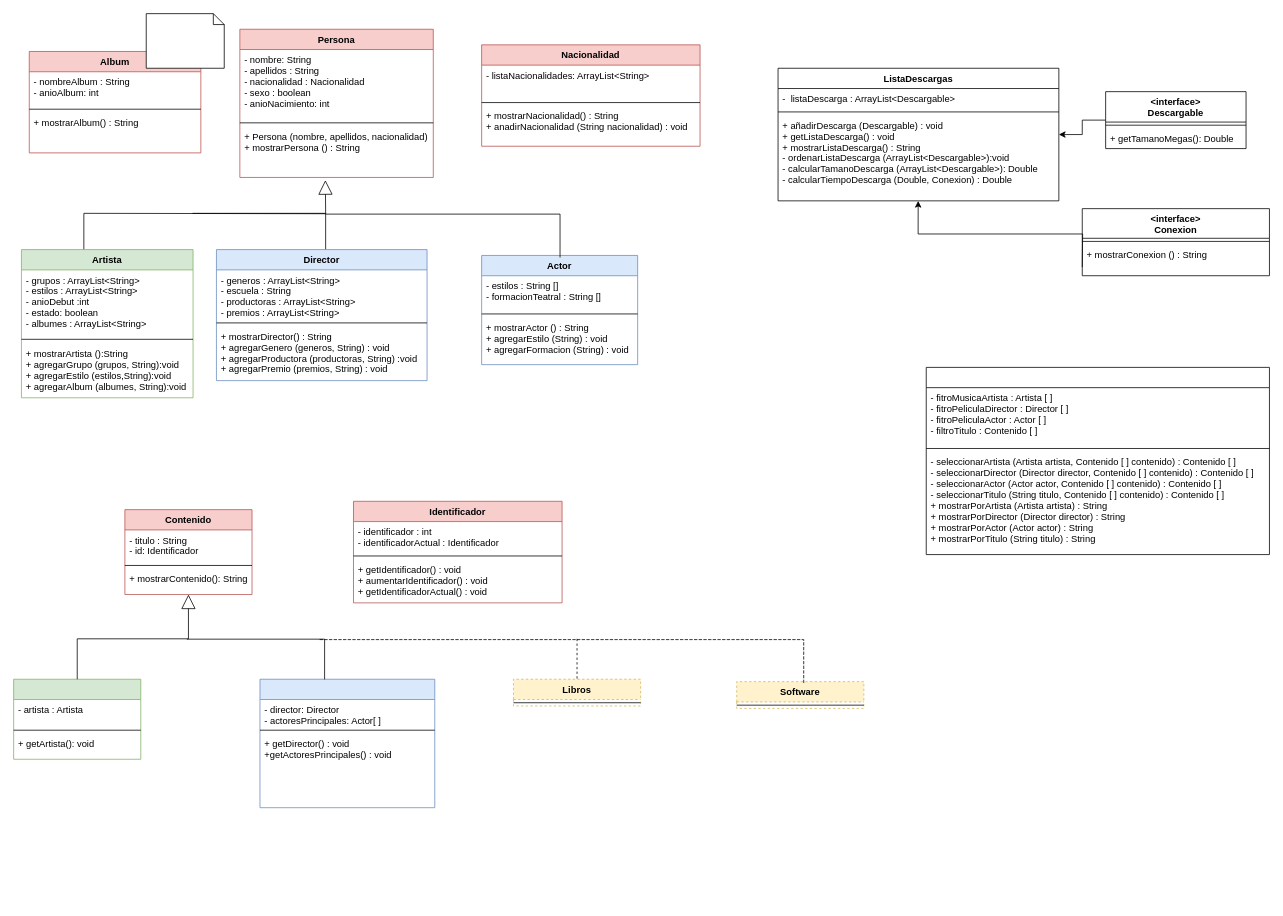
Some shapes in this 1283 by 916 pixel diagram are drawn without their labels. Each missing label, with the box of its shape:
Filtrado: (925, 367, 1269, 555)
Musica: (13, 678, 141, 759)
Pelicula: (259, 678, 435, 808)
quizas no sea necesaria esta clase: (145, 13, 224, 68)
